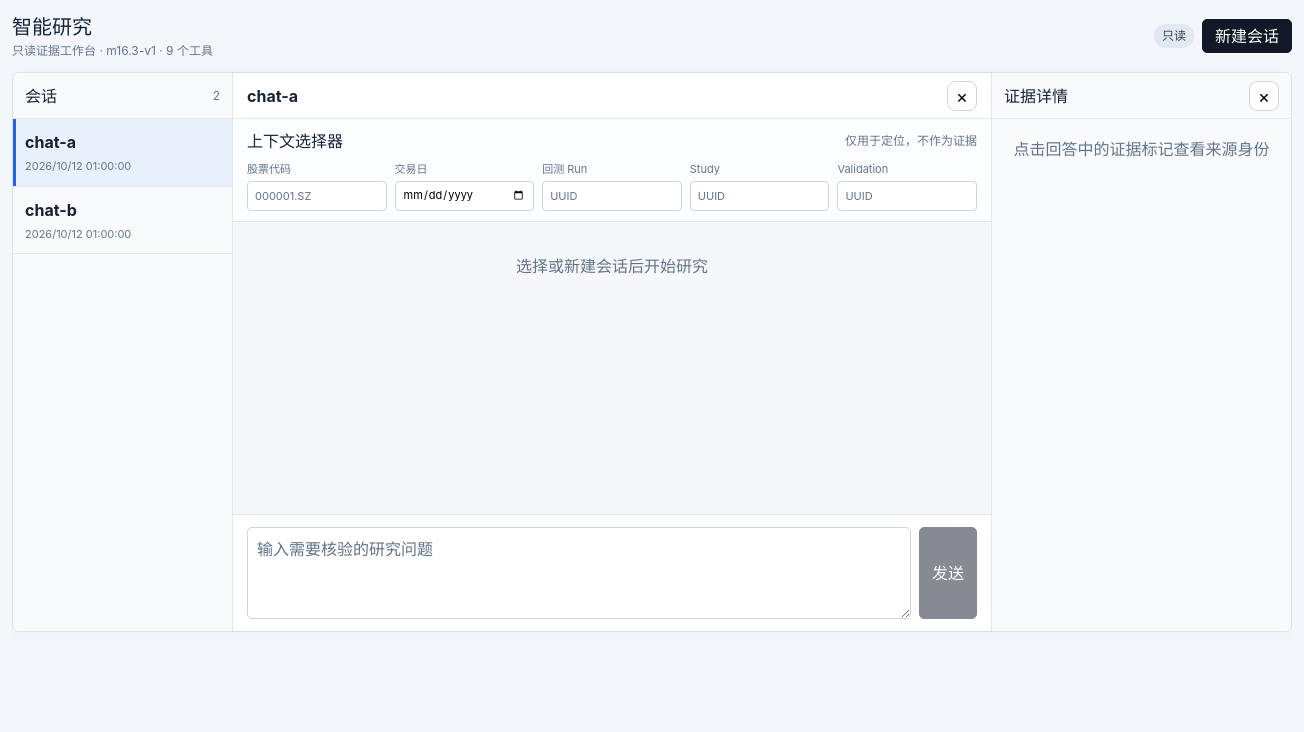
Test: a 409 followed by an unavailable status only offers status refresh
Type "question" into the text box with placeholder "输入需要核验的研究问题".
click(579, 573); type("question")  # box [247,527,911,619]
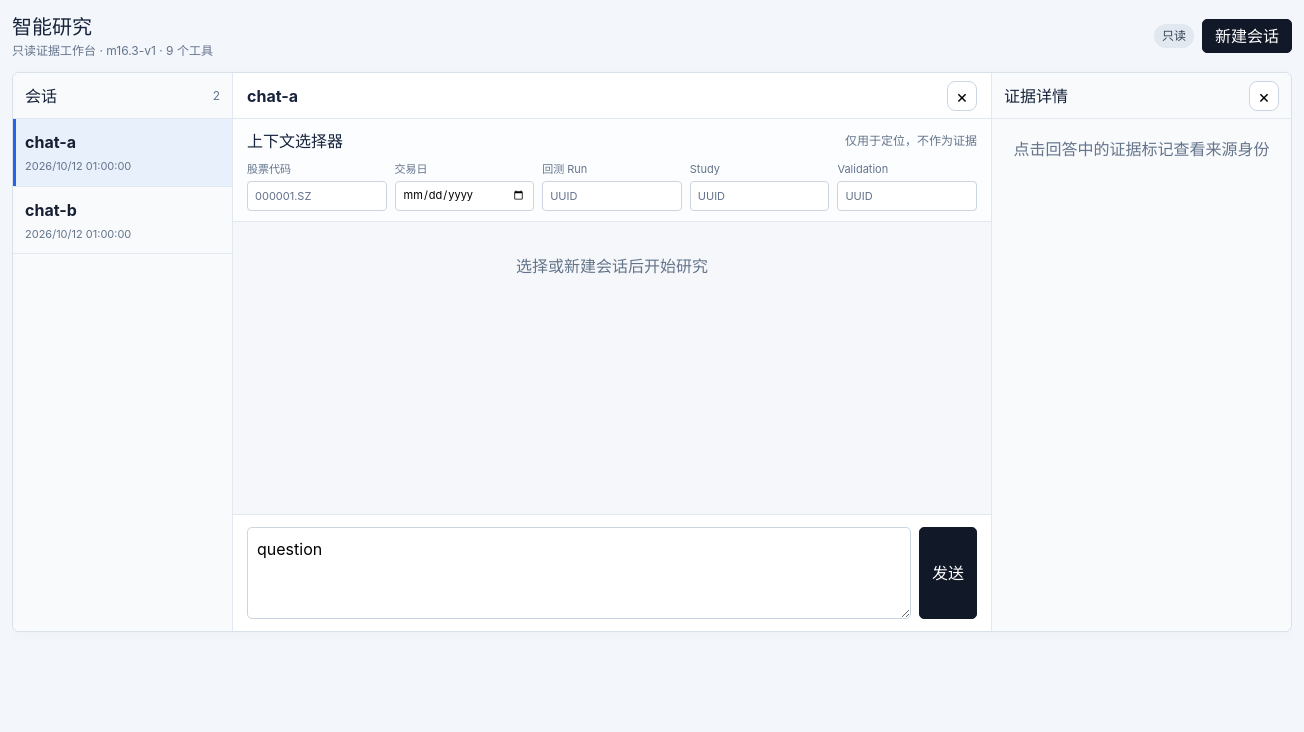
Submit the form with class "agent-composer", box [233,514,991,631]
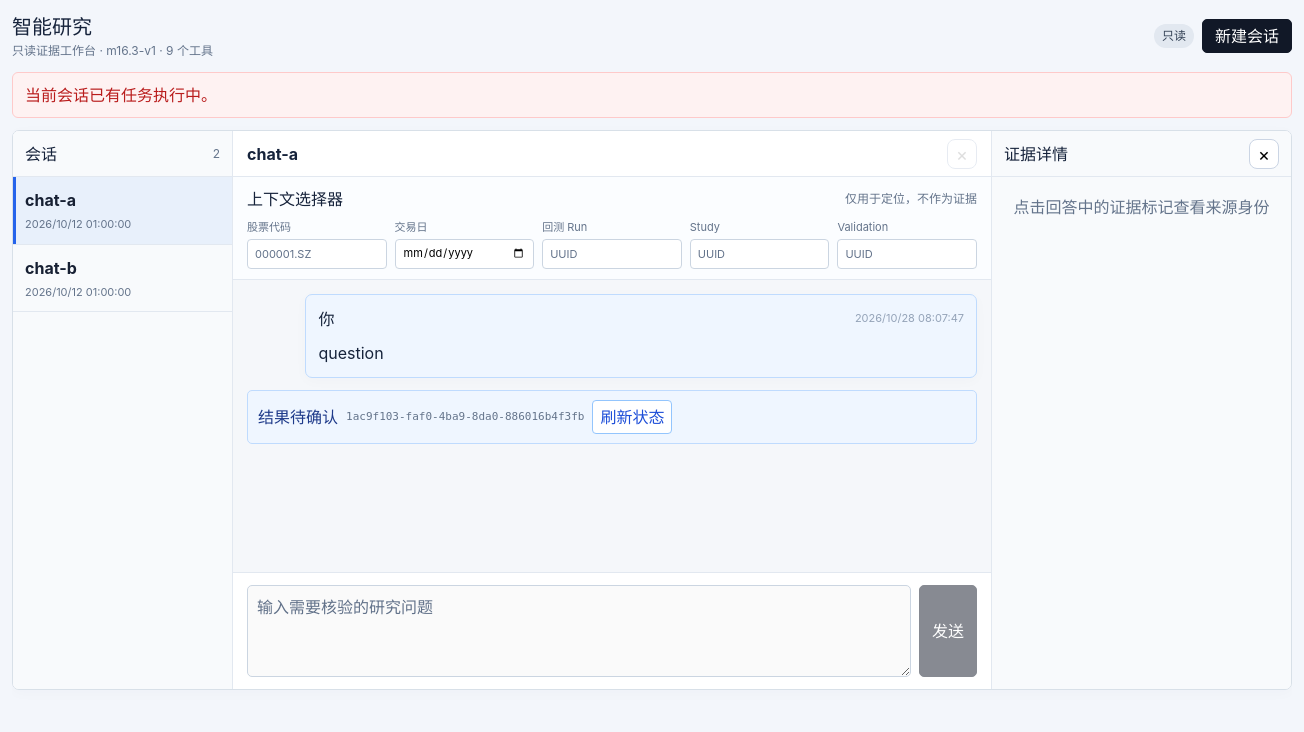
Expected: the text "结果待确认" is shown, [258,405,338,429]
Expected: the text "刷新状态" is shown, [592,400,672,434]
